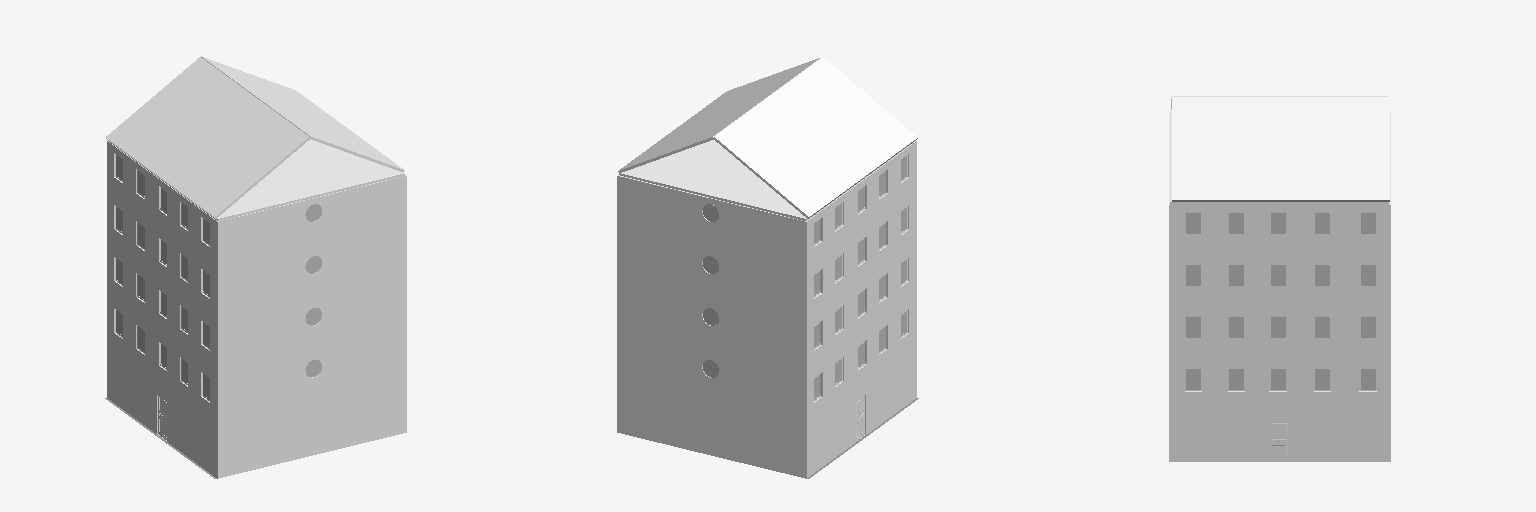
Rendered from building5.obj.
3 renders of one model, left to right at view 1: azimuth 30°, elevation 25°; view 2: azimuth 150°, elevation 25°; view 3: azimuth 270°, elevation 25°, orthographic.
Parts seen in each view (by area): view 1: front_501, wall_18_107, wall_6_35, wall_2_11, wall_10_59, wall_14_83, room_26_127, wall_13_77, wall_1_5, wall_17_101, wall_9_53, wall_5_29 (+1 smaller); view 2: front_501, wall_8_47, wall_20_119, wall_4_23, wall_12_71, wall_16_95, room_26_127, wall_13_77, wall_1_5, wall_9_53, wall_17_101, wall_5_29 (+1 smaller); view 3: front_507, wall_15_89, wall_3_17, wall_7_41, wall_11_65, wall_19_113, room_26_127, sweethome3d_opening_on_hinge_1_doorOutside_409.
Part boxes in pixels (left/top/right/bottom): front_501: left=106, top=57, right=308, bottom=216; wall_18_107: left=218, top=176, right=406, bottom=273; wall_6_35: left=218, top=279, right=406, bottom=376; wall_2_11: left=218, top=331, right=406, bottom=428; wall_10_59: left=218, top=228, right=406, bottom=324; wall_14_83: left=218, top=383, right=406, bottom=478; room_26_127: left=109, top=139, right=404, bottom=220; wall_13_77: left=107, top=349, right=217, bottom=478; wall_1_5: left=107, top=297, right=217, bottom=428; wall_17_101: left=107, top=141, right=217, bottom=273; wall_9_53: left=107, top=193, right=217, bottom=325; wall_5_29: left=107, top=245, right=217, bottom=376; front_501: left=715, top=57, right=917, bottom=216; wall_8_47: left=617, top=280, right=805, bottom=376; wall_20_119: left=617, top=176, right=805, bottom=273; wall_4_23: left=617, top=331, right=805, bottom=428; wall_12_71: left=617, top=228, right=805, bottom=324; wall_16_95: left=617, top=383, right=805, bottom=478; room_26_127: left=619, top=140, right=914, bottom=220; wall_13_77: left=806, top=349, right=916, bottom=477; wall_1_5: left=806, top=297, right=916, bottom=428; wall_9_53: left=806, top=193, right=916, bottom=324; wall_17_101: left=806, top=141, right=916, bottom=272; wall_5_29: left=806, top=245, right=916, bottom=376; front_507: left=1172, top=97, right=1389, bottom=199; wall_15_89: left=1169, top=413, right=1390, bottom=461; wall_3_17: left=1169, top=361, right=1390, bottom=412; wall_7_41: left=1169, top=309, right=1390, bottom=360; wall_11_65: left=1169, top=257, right=1390, bottom=308; wall_19_113: left=1169, top=205, right=1390, bottom=256; room_26_127: left=1170, top=111, right=1388, bottom=204; sweethome3d_opening_on_hinge_1_doorOutside_409: left=1269, top=422, right=1288, bottom=461.
Size of the model in its own units: 1014 by 1612 by 1013.